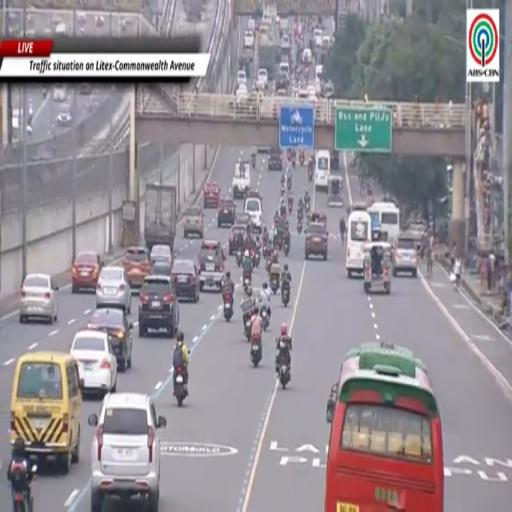bus: (325, 343, 444, 511), (346, 210, 371, 278), (367, 202, 399, 243), (315, 150, 330, 189)
car: (88, 393, 166, 511), (10, 351, 82, 473), (87, 309, 133, 372), (71, 329, 116, 393), (138, 276, 179, 338), (20, 274, 58, 324), (96, 267, 131, 314), (198, 240, 226, 291), (72, 251, 102, 293), (171, 260, 199, 302), (123, 247, 149, 289), (393, 235, 417, 277), (305, 222, 328, 260), (183, 206, 204, 237), (245, 197, 262, 232), (228, 224, 247, 254), (218, 199, 235, 227), (150, 245, 172, 264), (204, 182, 220, 207), (56, 103, 72, 126), (268, 147, 282, 170), (151, 262, 172, 276), (53, 85, 67, 102), (237, 212, 251, 228), (276, 73, 288, 91), (257, 69, 268, 88), (244, 30, 254, 47), (237, 70, 246, 86), (303, 47, 312, 63), (255, 77, 265, 91), (95, 14, 104, 28), (248, 19, 255, 33)
motorcycle: (174, 366, 187, 407), (11, 491, 33, 511), (279, 351, 290, 389), (250, 334, 262, 367), (224, 294, 233, 322), (281, 281, 290, 307), (450, 271, 461, 291), (244, 315, 251, 341), (261, 308, 269, 330), (270, 275, 279, 294), (243, 272, 251, 293), (283, 237, 290, 257), (252, 250, 260, 267), (236, 249, 242, 267), (262, 242, 267, 259), (308, 165, 313, 182), (288, 197, 293, 214), (297, 219, 302, 234), (304, 201, 310, 213), (298, 207, 303, 220), (287, 176, 291, 191), (300, 152, 304, 166), (252, 155, 256, 169), (281, 185, 285, 197), (292, 156, 295, 169), (288, 150, 291, 162)
truck: (144, 184, 176, 252), (258, 39, 277, 79)
